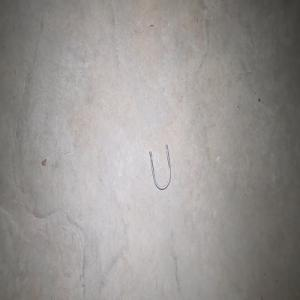ClampPart: (149, 143, 171, 190)
